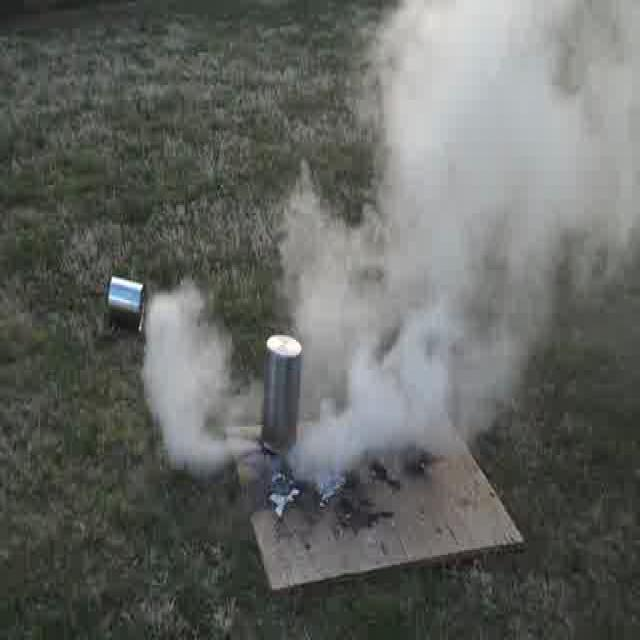Smoke: (304, 2, 640, 476), (147, 288, 256, 472)
